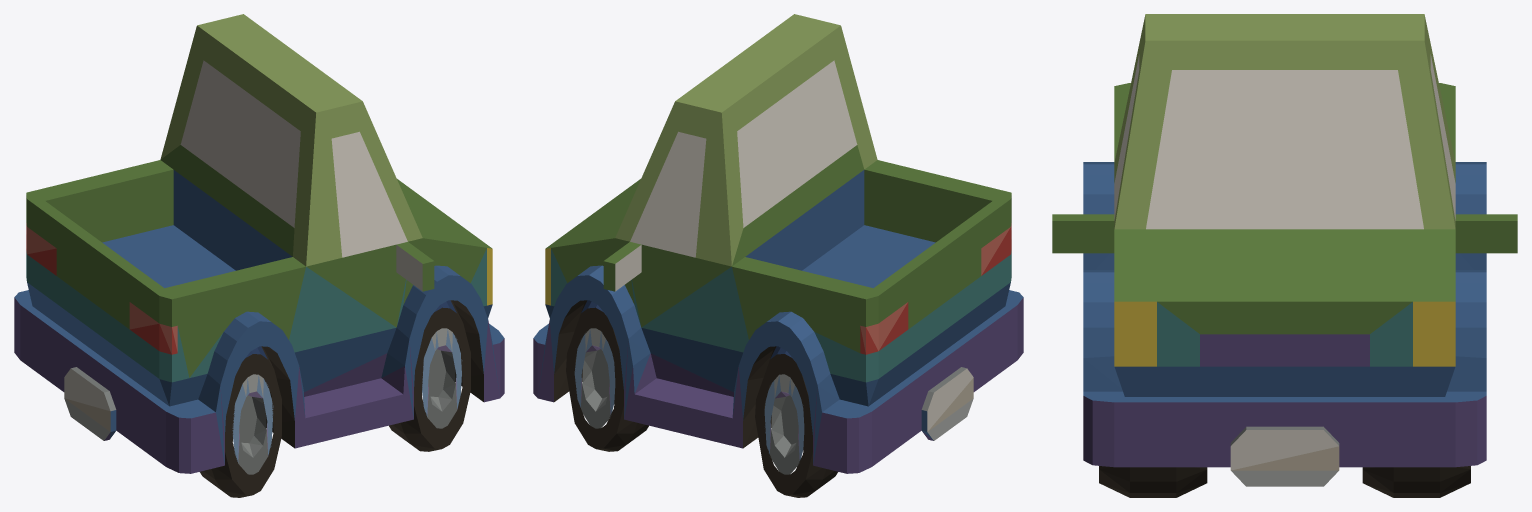
The model's file is truck.glb.
3 views of the same model, side by side, from view 1: azimuth 30°, elevation 25°; view 2: azimuth 150°, elevation 25°; view 3: azimuth 270°, elevation 25° (orthographic). The views are drawn at different scales.
Bounding box in the file's own units: 1 × 1 × 1.
